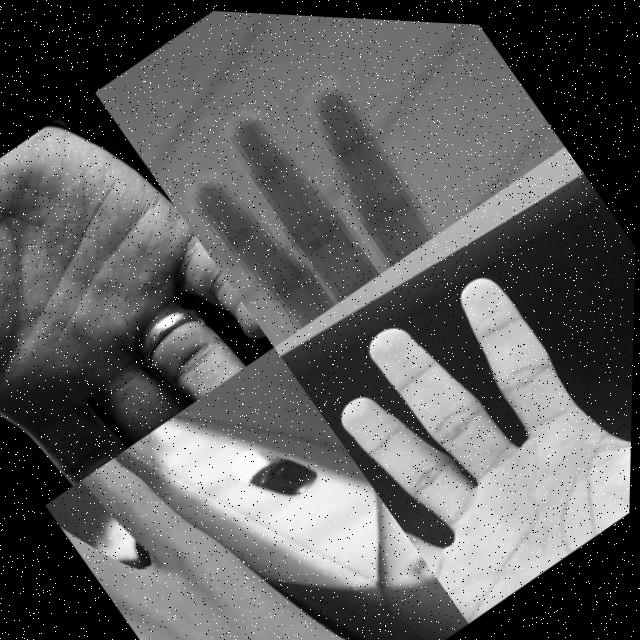hand: (299, 166, 637, 624), (146, 6, 567, 355), (0, 87, 280, 513), (46, 381, 413, 640)
